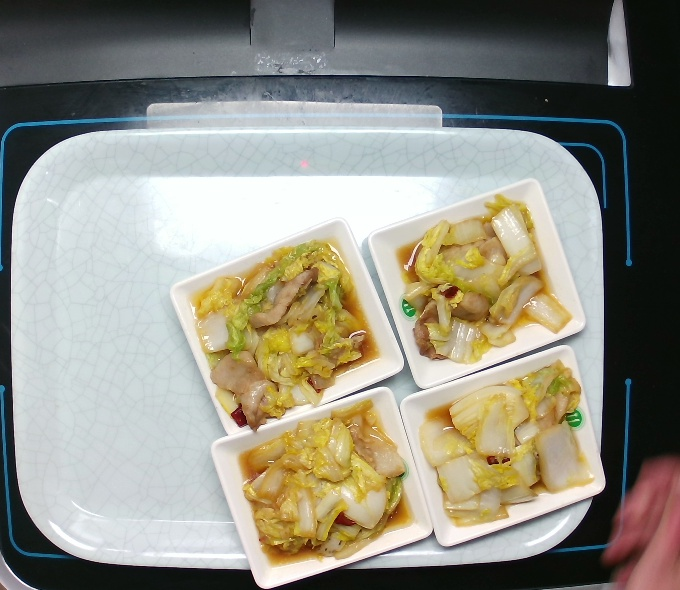wcq-DaBaiCaiRouPian: (193, 243, 383, 423), (401, 205, 563, 352), (242, 408, 404, 555), (427, 373, 589, 520)
